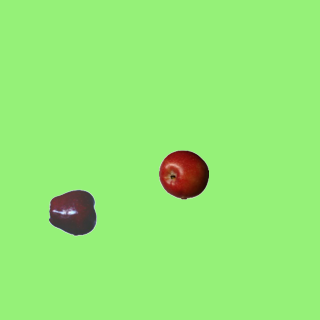Apple Braeburn: (158, 149, 208, 199)
Apple Red Delicious: (48, 187, 98, 237)
